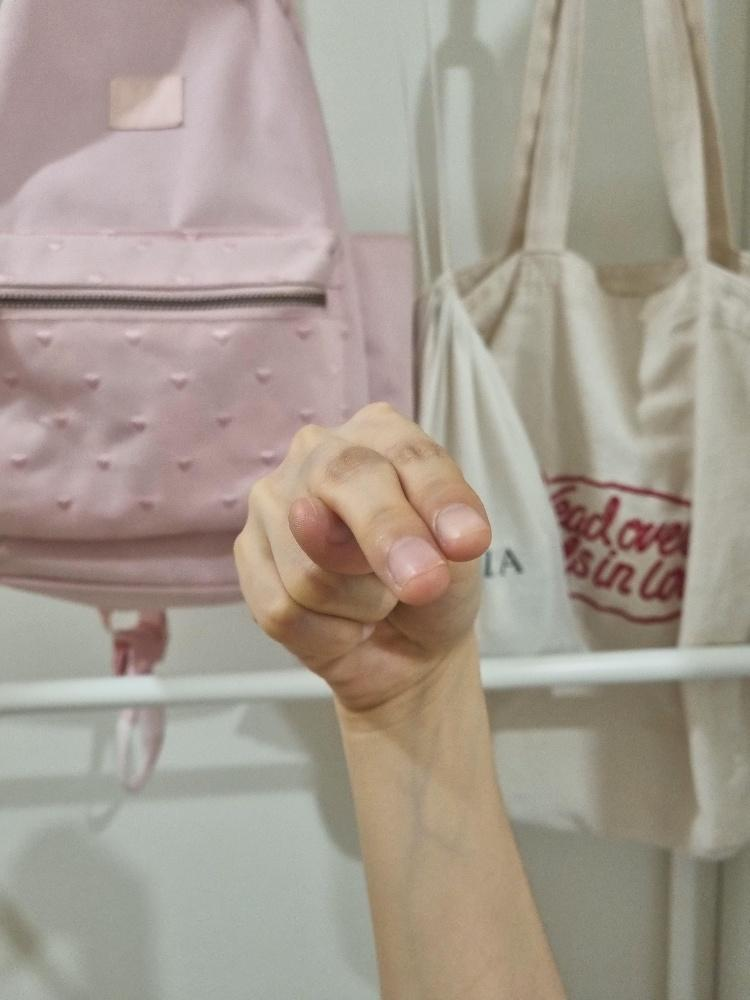n: (231, 399, 492, 706)
